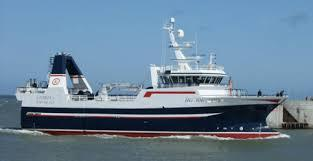Ship: (17, 18, 286, 139)
